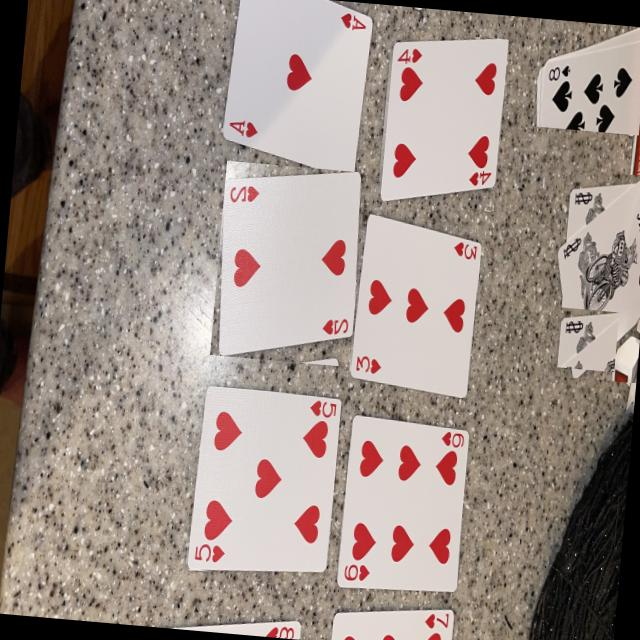2 of hearts: (216, 171, 359, 356)
3 of hearts: (348, 215, 480, 397)
4 of hearts: (378, 38, 506, 201)
5 of hearts: (185, 386, 339, 573)
6 of hearts: (336, 415, 467, 593)
7 of hearts: (330, 609, 452, 640)
8 of hearts: (176, 620, 299, 639)
8 of spades: (534, 27, 640, 135)
Ace of hearts: (221, 0, 371, 177)
Joker: (556, 180, 640, 378), (555, 312, 617, 367)
